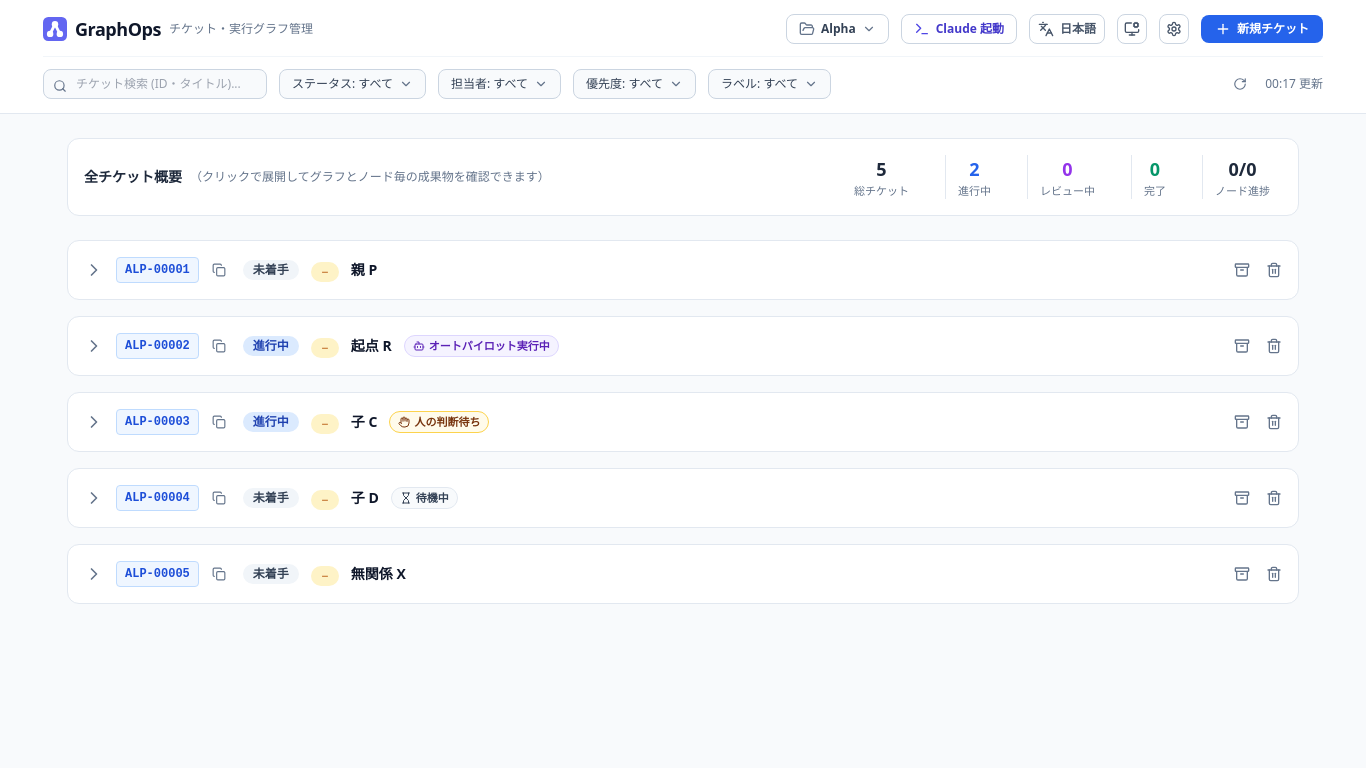
Scenario: autopilot in the Web UI › shows what a person is awaited for inside the focus fallback
Expected: the text "ALP-00001" is shown, [116, 257, 199, 283]
Expected: the element with test id "autopilot-badge-awaitingHuman" is shown, [389, 411, 489, 433]
Click the element with test id "ticket-header-row": (157, 422) [84, 409, 1286, 435]
(page scrolled)
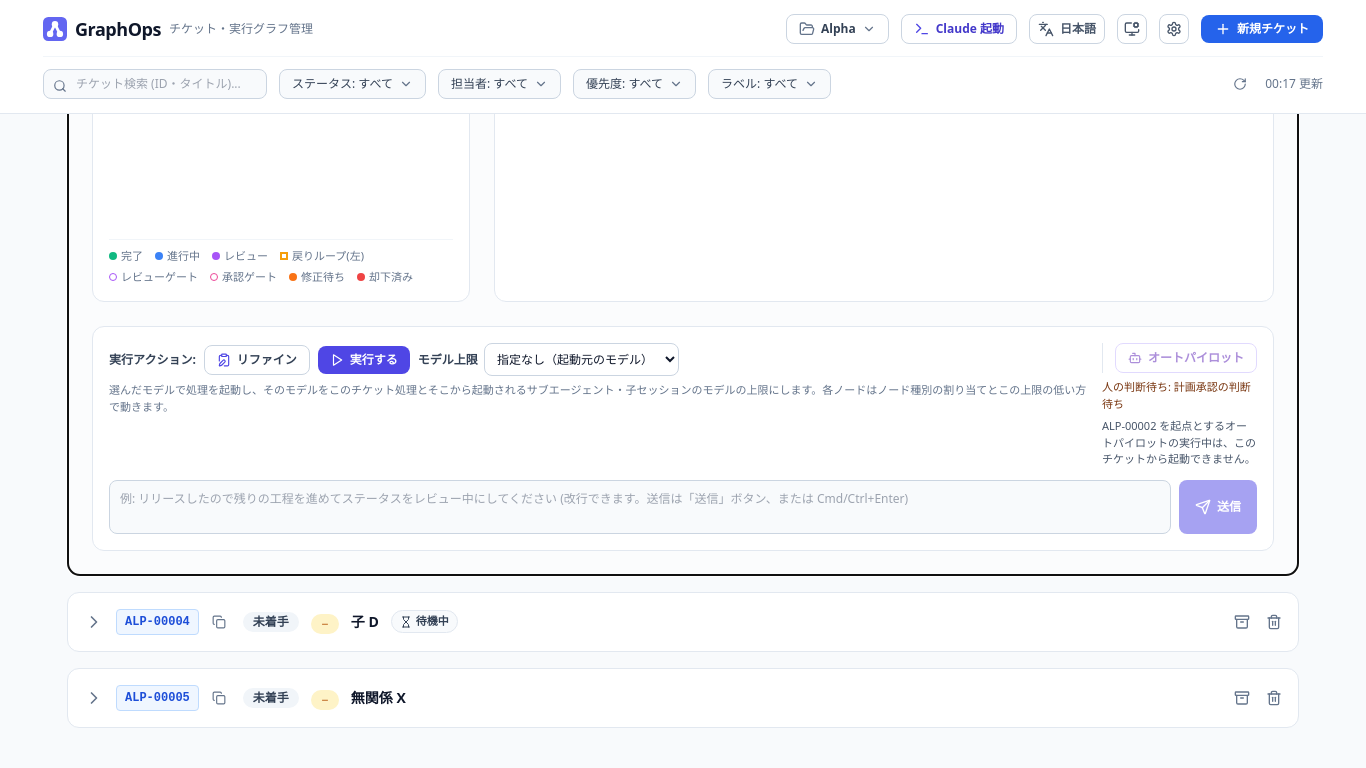
Expected: the text with test id "autopilot-awaiting" shows "計画承認の判断待ち", [1102, 379, 1251, 410]
